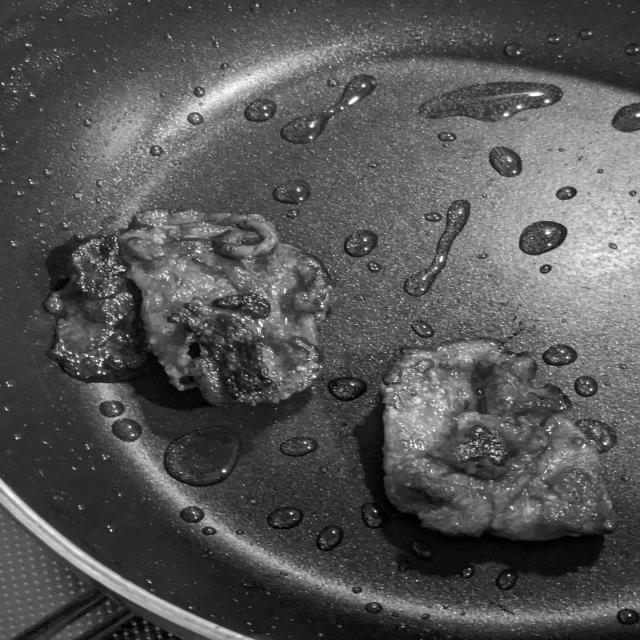overcooked pork: (38, 206, 344, 414), (374, 326, 627, 543)
